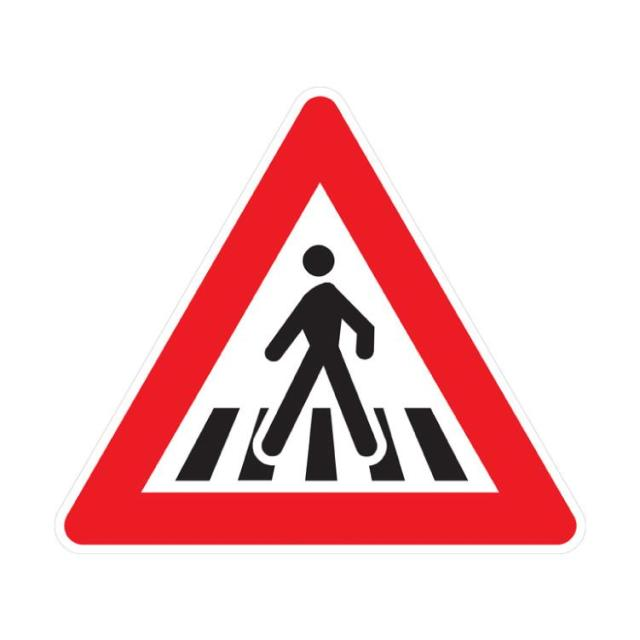Pedestrian crosswalk: (19, 62, 610, 561)
